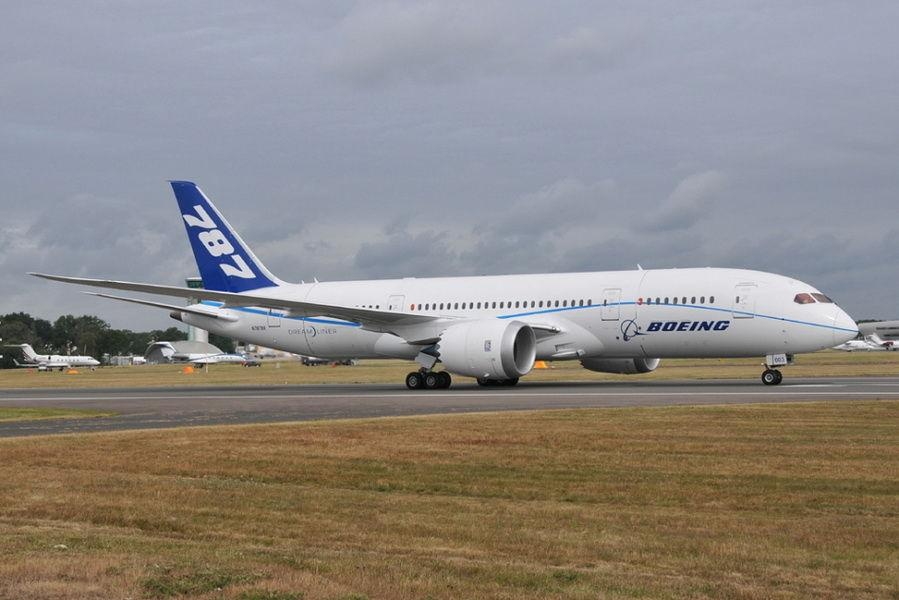airplane: (68, 170, 866, 388)
